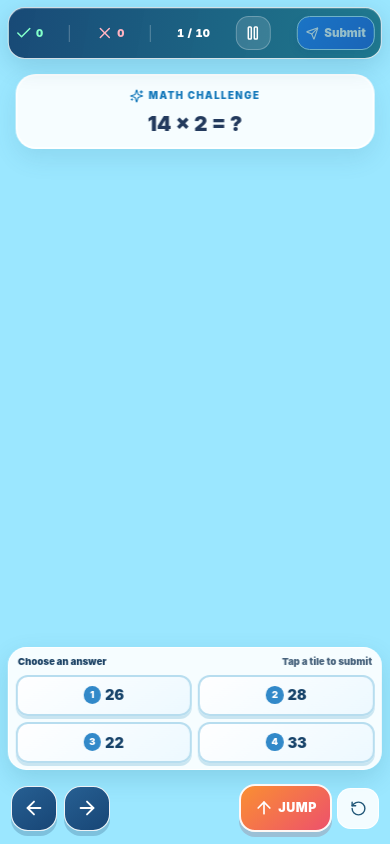
Test case: 2D Math Jump Adventure UI › starts a clean unpaused world when the owning quiz session is restarted
The width and height of the screenshot is (390, 844).
Click the button named "Pause adventure".
click(253, 33)  # box [236,16,270,50]
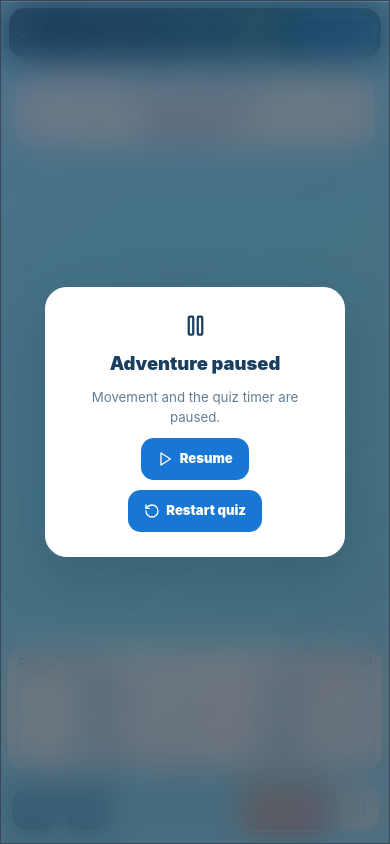
expect the dialog "Adventure paused" is shown: met
